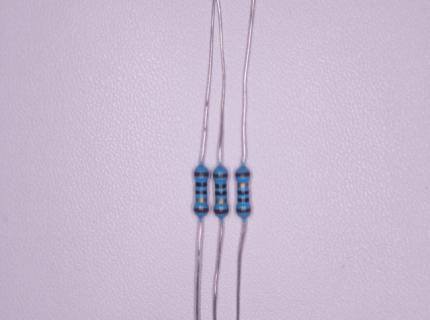Black band: (237, 191, 249, 195), (196, 190, 207, 194), (215, 184, 226, 188), (215, 191, 226, 195), (238, 198, 249, 202), (196, 183, 207, 186)
Brown band: (236, 172, 250, 177), (194, 208, 208, 213), (237, 208, 250, 213), (194, 172, 209, 176), (214, 209, 228, 213), (213, 174, 228, 177)
Gold band: (237, 182, 249, 187), (216, 199, 227, 203), (196, 198, 207, 202)
